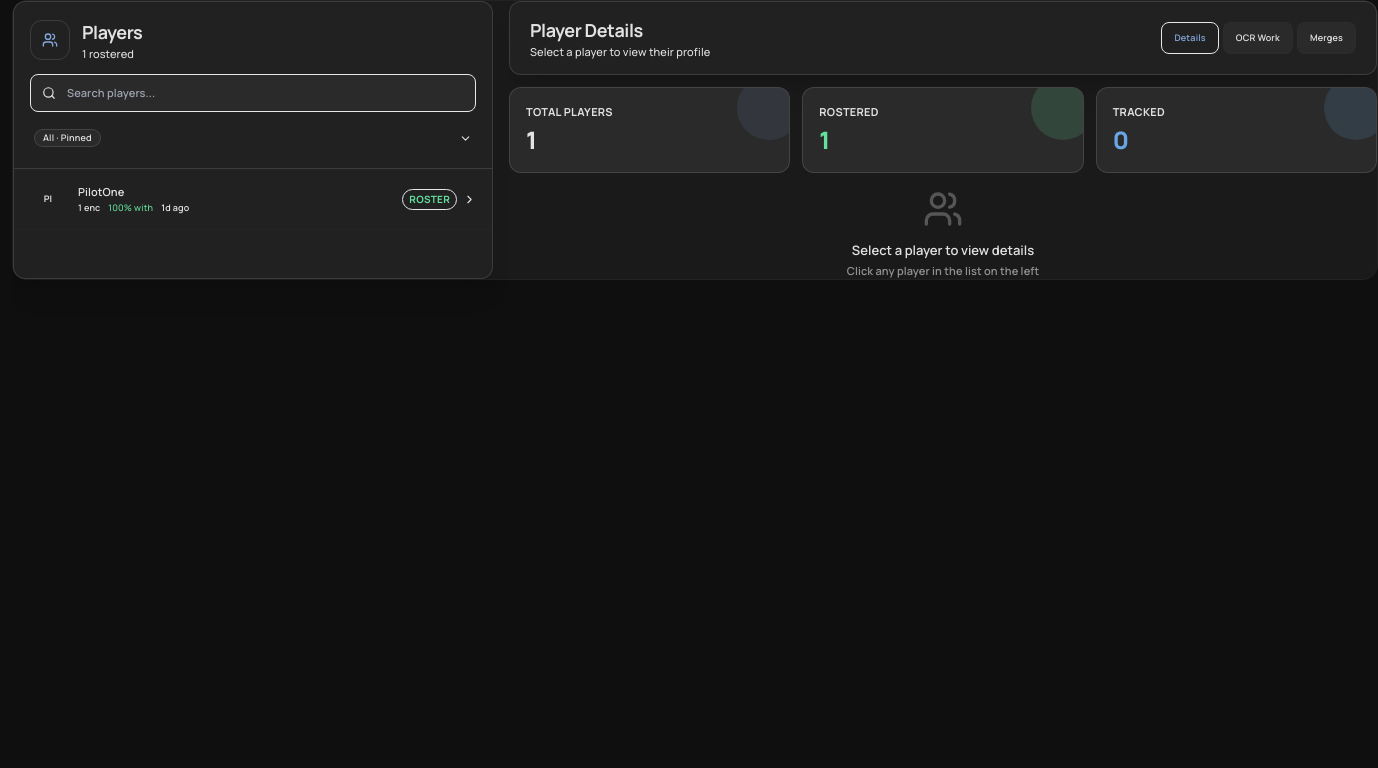
Test: PlayerHub › uses recent matches from OCR variants when showing last encounter recency
Click the button "PI PilotOne 1 enc 100% with 1d ago Roster".
click(101, 192)  # box [14,169,492,230]
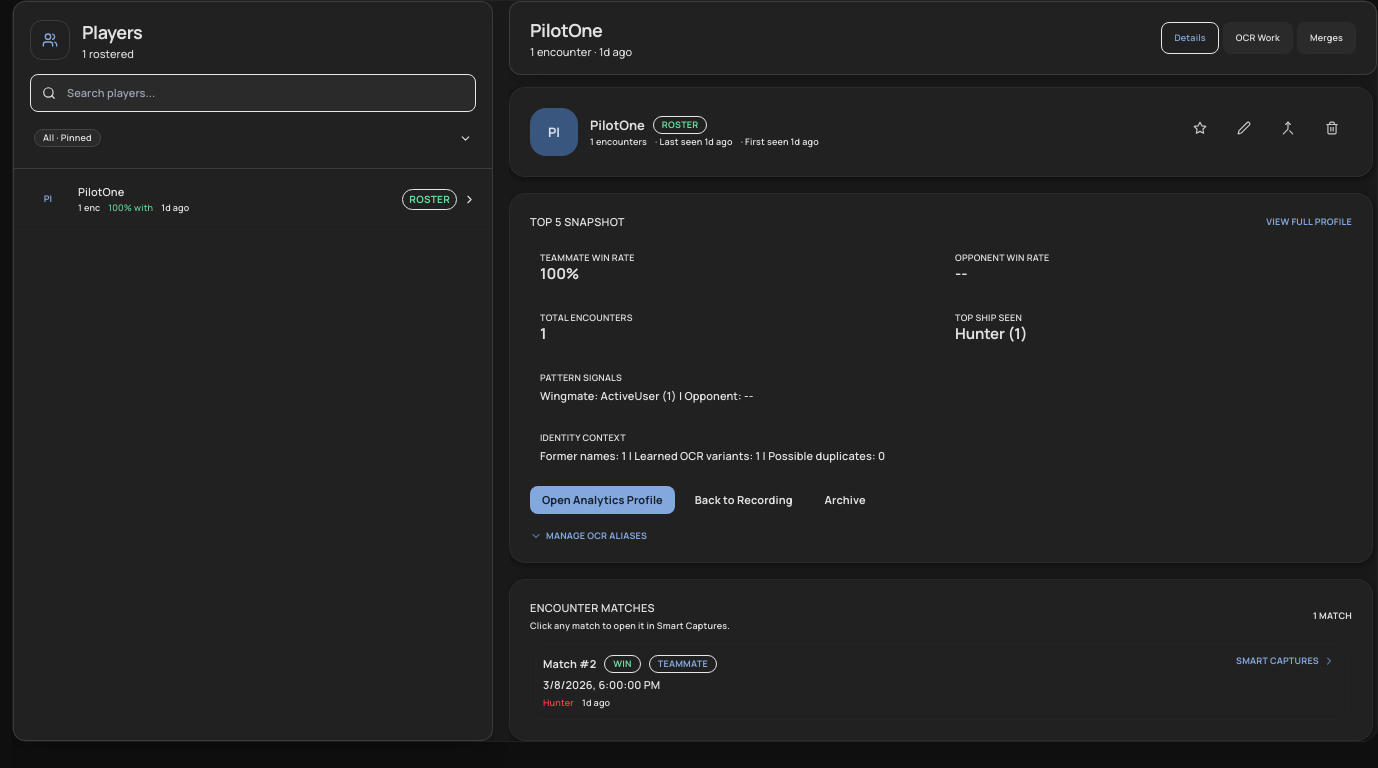
Now the text "· Last seen 1d ago" is shown, box [655,136,733,148]
